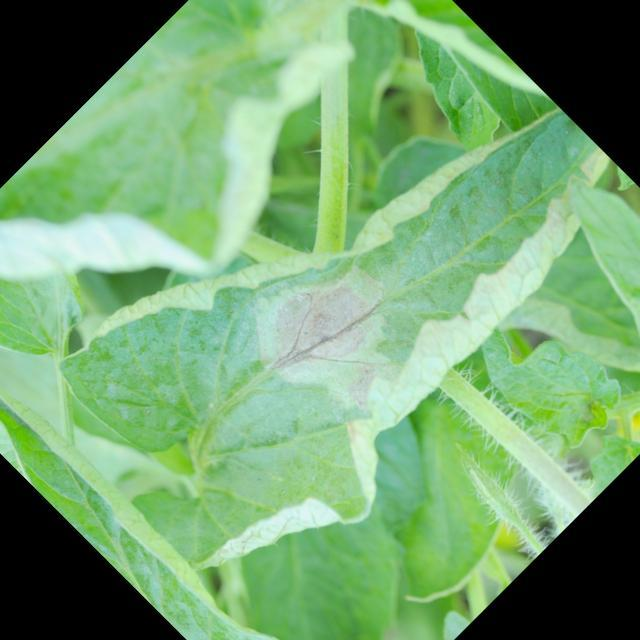Tomato healthy leaf: (522, 152, 640, 402)
Tomato late blight leaf: (46, 0, 640, 616)
